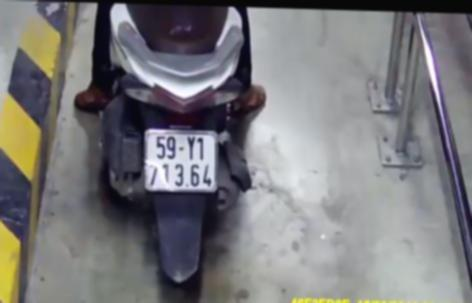License_Plate: (135, 123, 229, 199)
